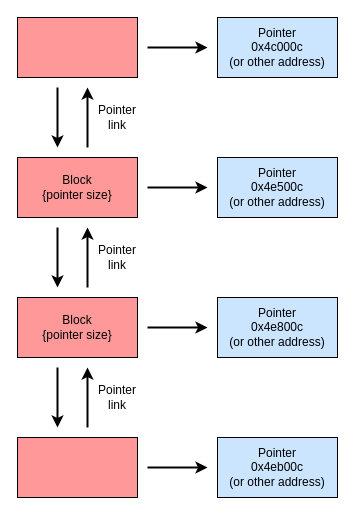
Some shapes in this 355 by 515 pixel diagram are drawn without their labels. The box of each missing label's shape, as (x1, y1, x2, y2) in pixels:
Block head {pointer size}: (16, 16, 138, 78)
Block tail {pointer size}: (16, 436, 138, 498)
